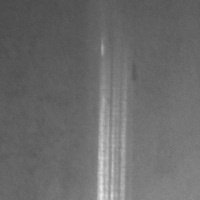scratches: (97, 43, 130, 199)
